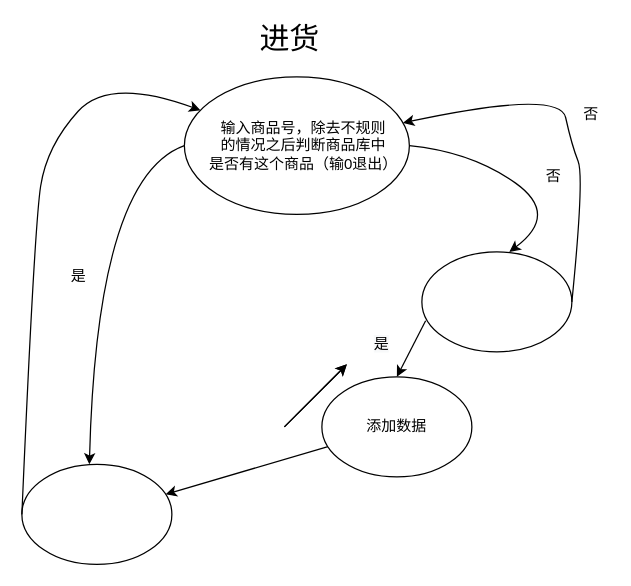
The diagram is 631 pixels wide and 586 high, and some of its shapes have lost their labels. The centre of each missing label's shape, as x and y in pixels:
"询问是否添加数据信息" goes at point (496, 301).
"输入数量" goes at point (96, 513).
